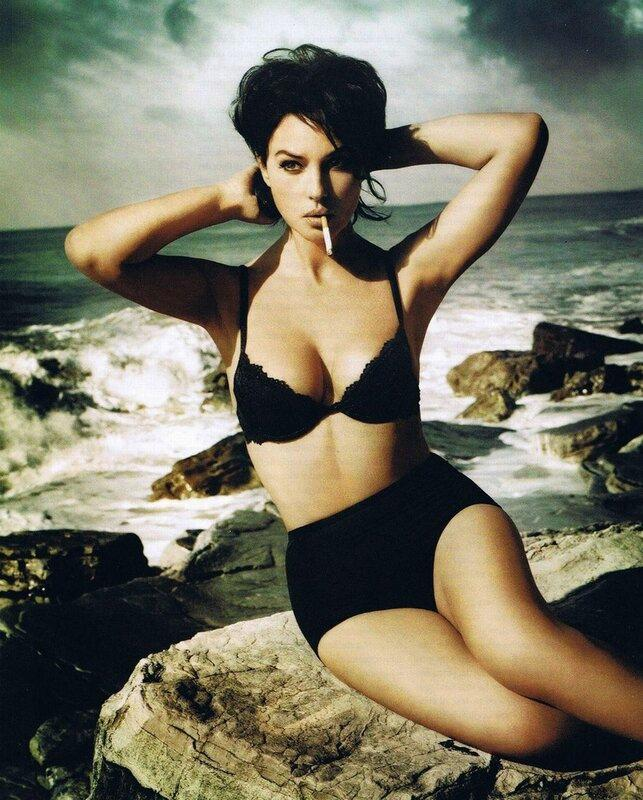cigarette: (321, 215, 333, 255)
